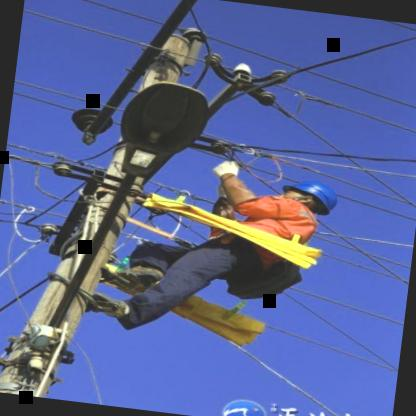helmet: (282, 174, 341, 219), (213, 390, 272, 416)
